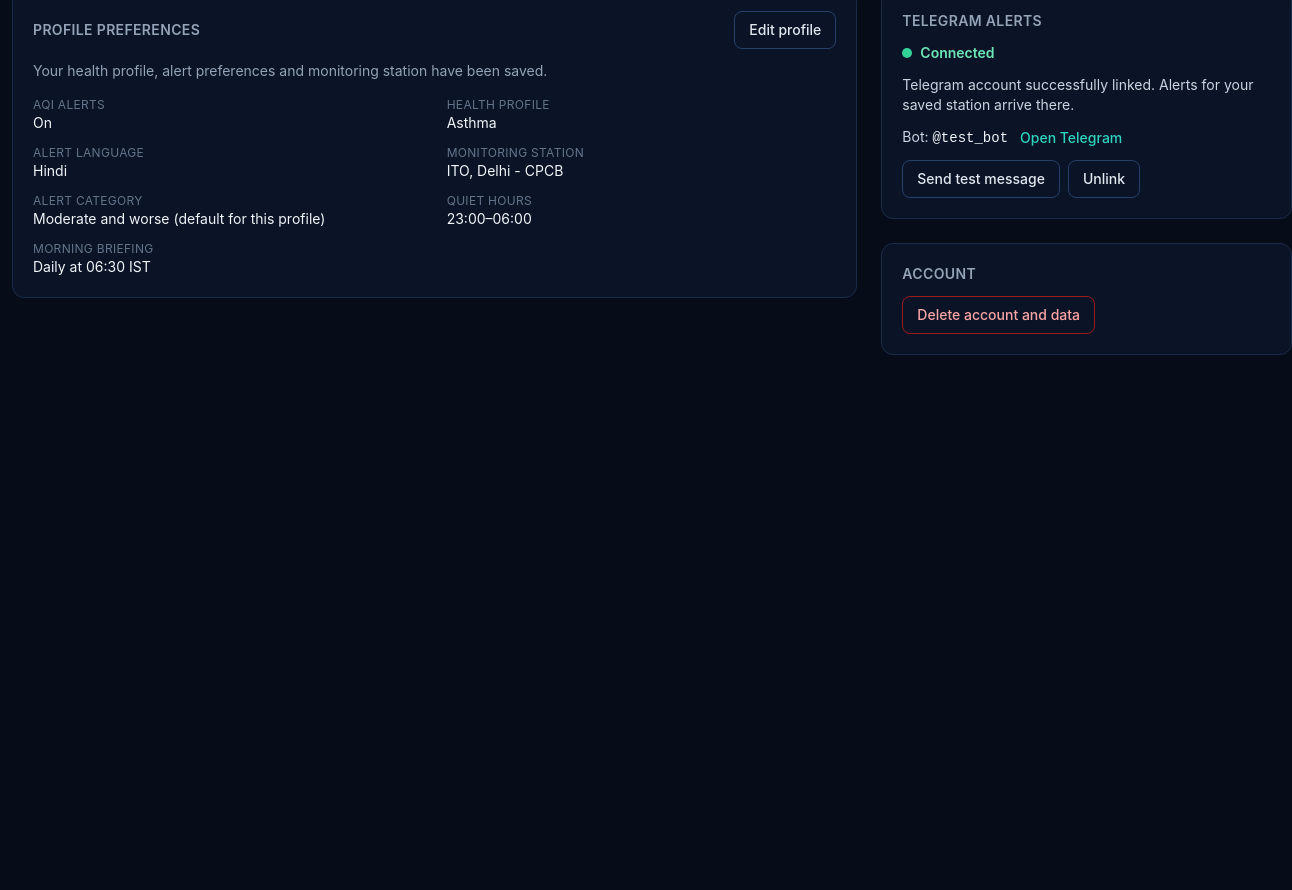
Test: Profile page: collapsible saved settings › AQI alerts have their own switch, independent of the morning briefing
Expected: the text "AQI alerts" is shown, x1=33 y1=97 x2=105 y2=112
Expected: the text "On" is shown, x1=33 y1=114 x2=52 y2=131
Click the button "Edit profile".
click(785, 30)  # box x1=734 y1=11 x2=836 y2=49
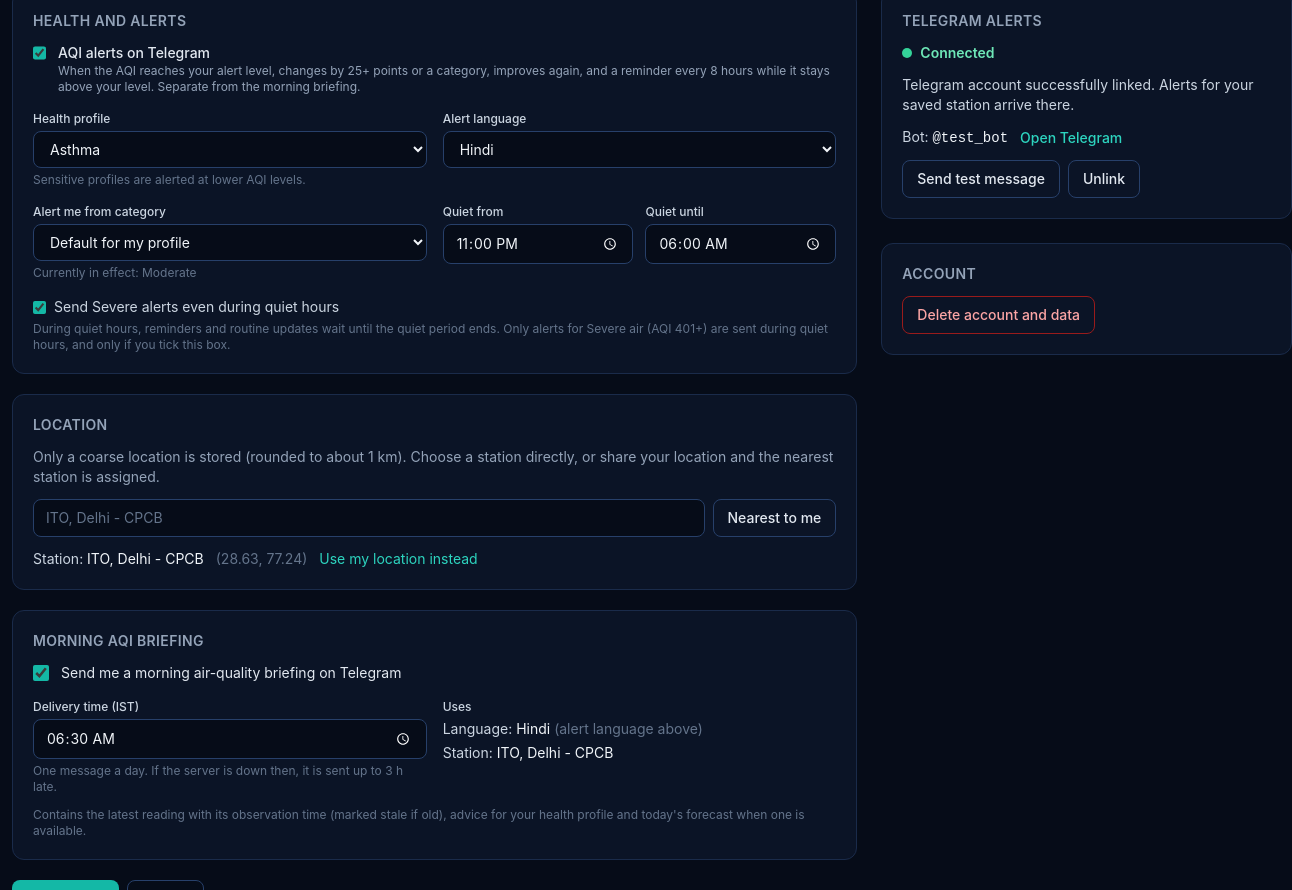
Expected: the switch labelled "AQI alerts" is checked
Click the switch labelled "AQI alerts".
click(40, 53)  # box x1=33 y1=45 x2=46 y2=61
(page scrolled)
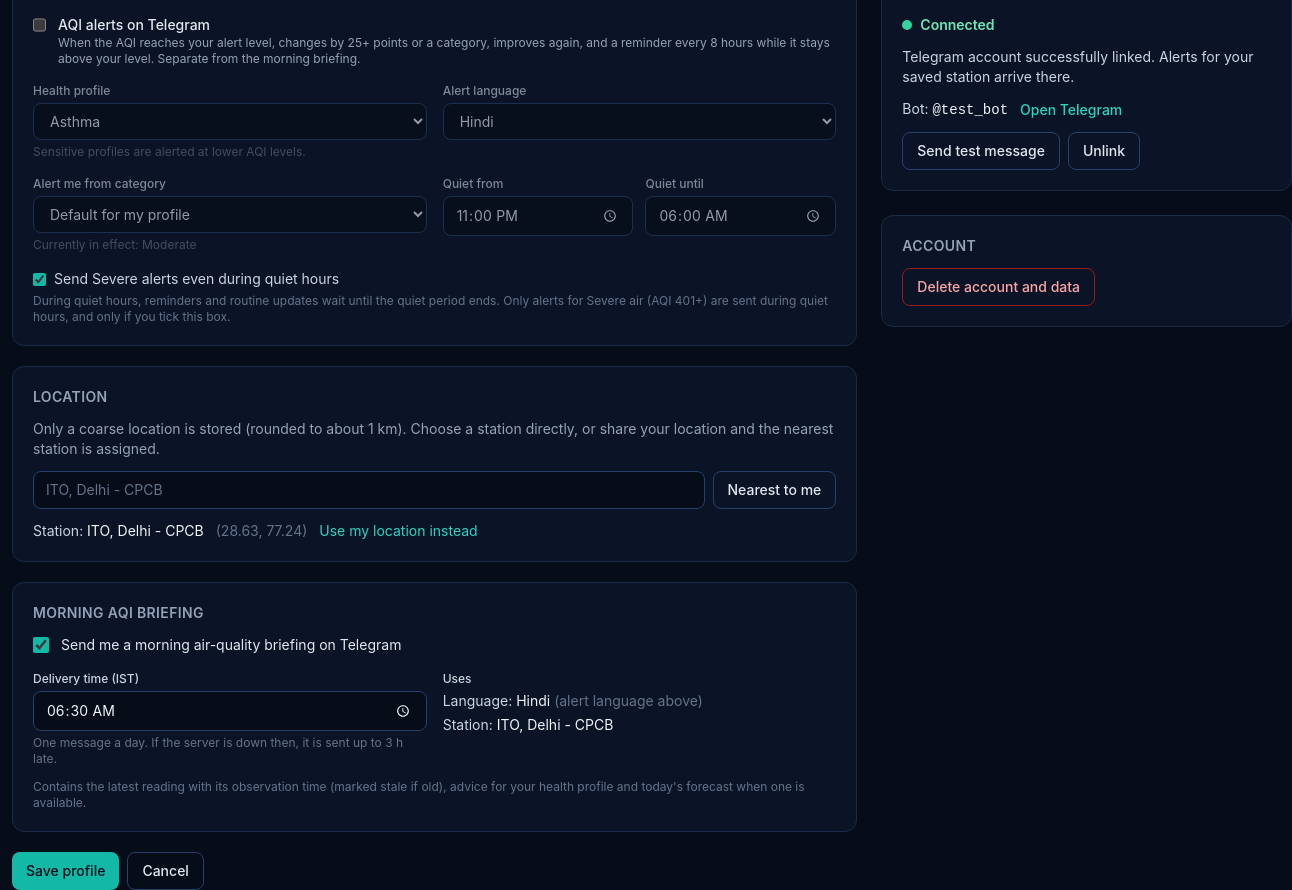
Click the button "Save profile".
click(66, 871)  # box x1=12 y1=852 x2=119 y2=889
(page scrolled)
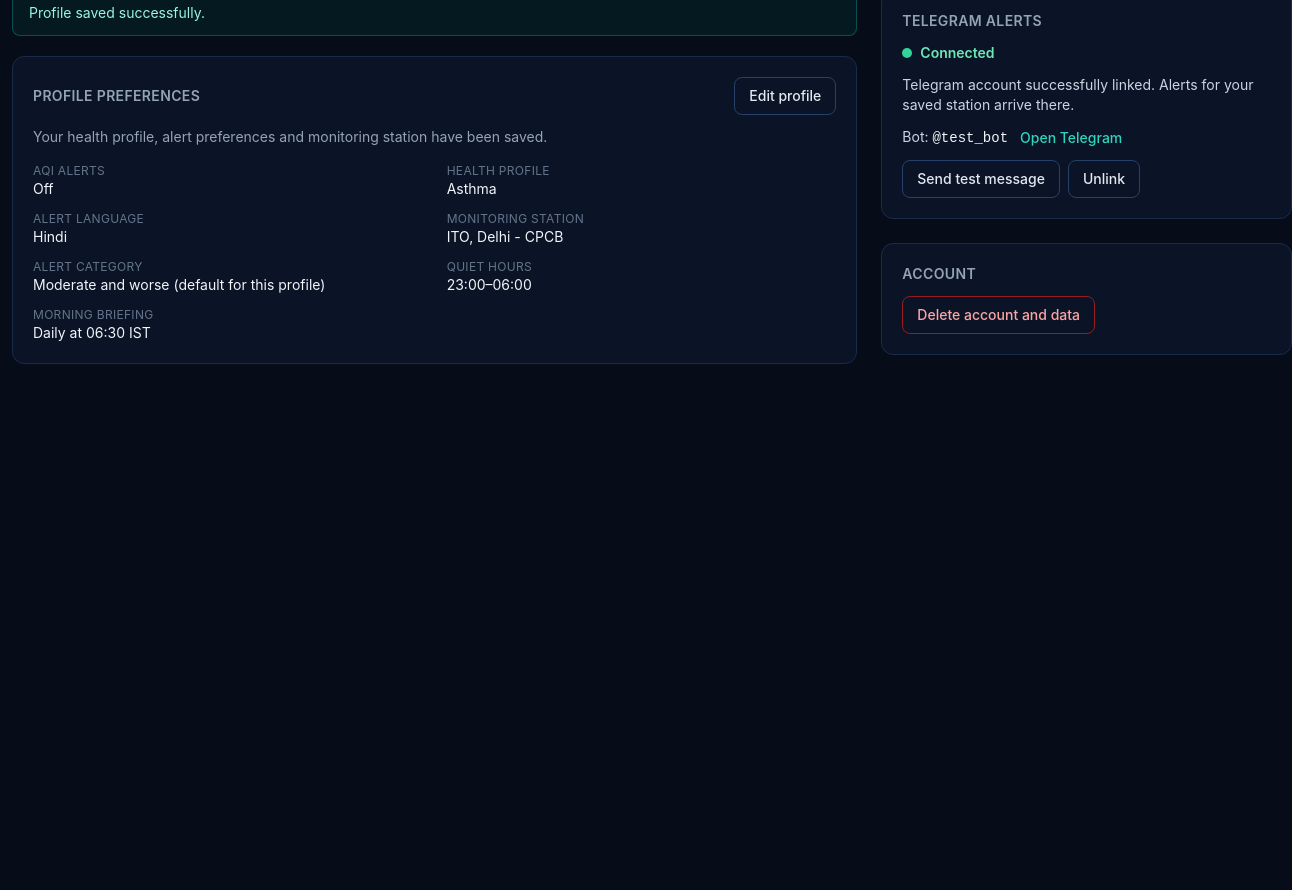
Expected: the text "Off" is shown, x1=33 y1=180 x2=54 y2=197
Expected: the text "Daily at 06:30 IST" is shown, x1=33 y1=324 x2=151 y2=341
